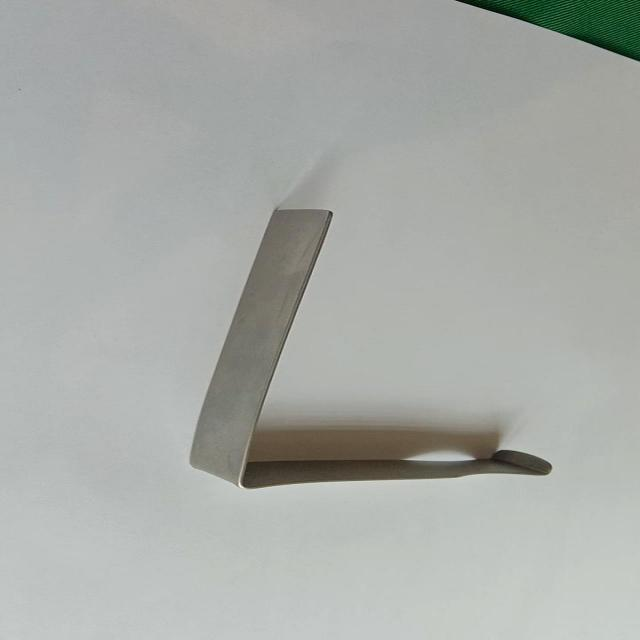AustinRetractor: (175, 200, 566, 495)
